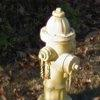Hydrant: (26, 4, 86, 100)
